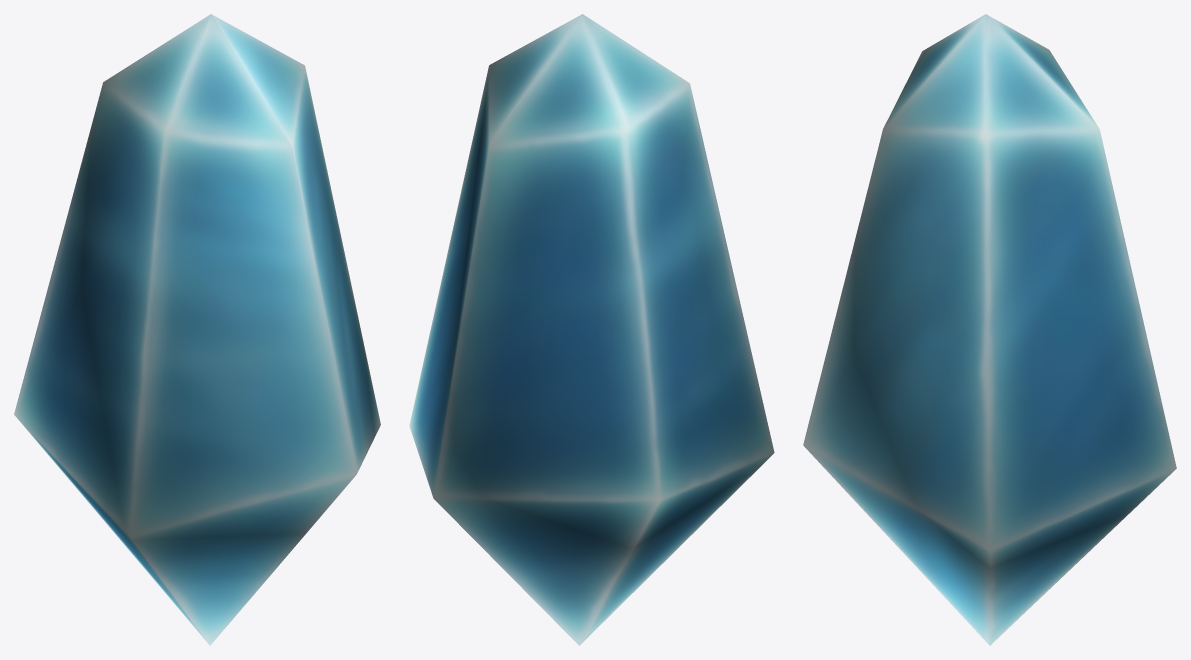
File: Crystal.FBX
3 renders of one model, left to right at view 1: azimuth 30°, elevation 25°; view 2: azimuth 150°, elevation 25°; view 3: azimuth 270°, elevation 25°, orthographic.
Visible parts, largest first — view 1: Crystal_Crystal; view 2: Crystal_Crystal; view 3: Crystal_Crystal.
Part boxes in pixels (box(x1,y1,x2,y2)): Crystal_Crystal: box(14, 14, 380, 645); Crystal_Crystal: box(409, 14, 774, 645); Crystal_Crystal: box(803, 14, 1176, 645).
Size of the model in its own units: 1.53 by 1.6 by 2.99.
